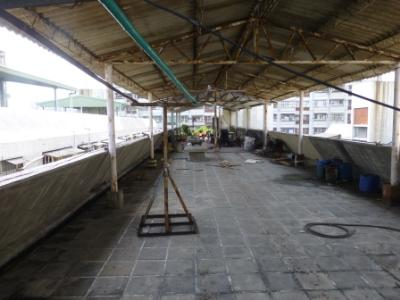bucket: (357, 173, 381, 196)
